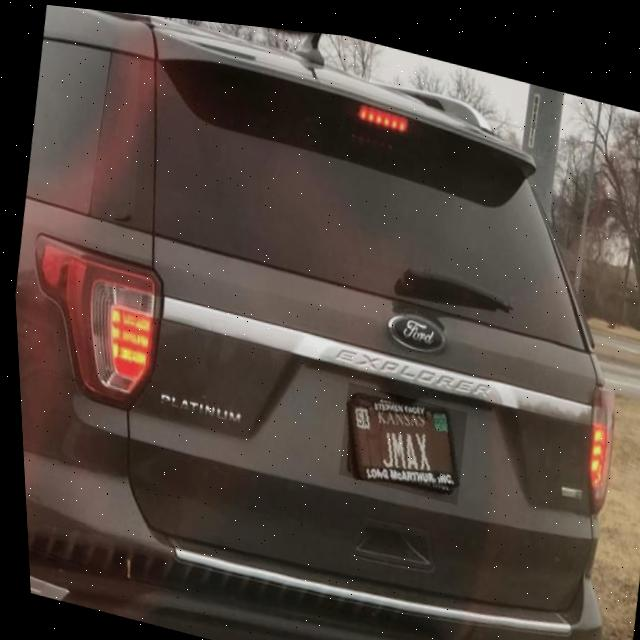LicensePlate: (343, 392, 455, 477)
